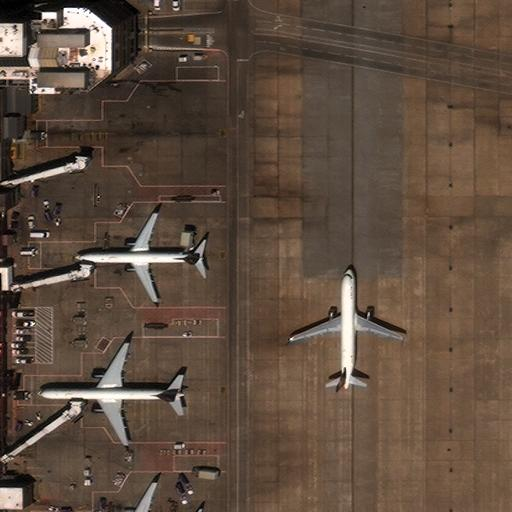Large Civil Transport: (35, 342, 185, 446)
Medium Civil Transport: (289, 266, 403, 391), (74, 212, 205, 301), (102, 481, 184, 512)
